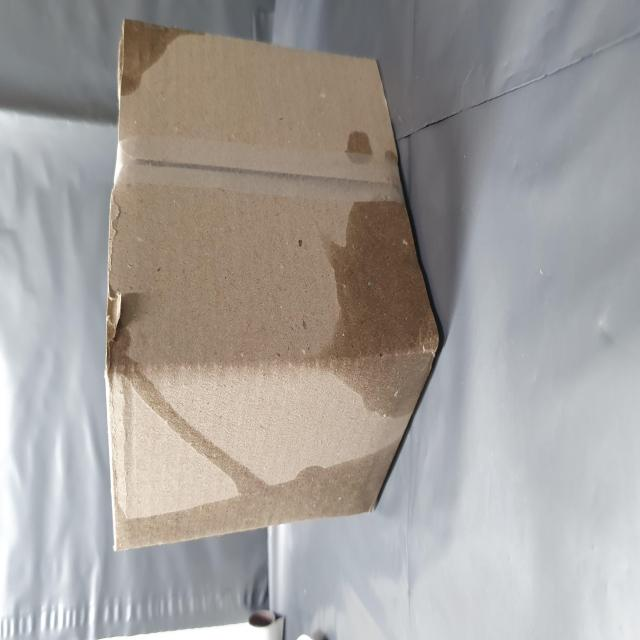wet: (43, 218, 103, 640), (116, 563, 252, 640), (310, 196, 353, 337)
